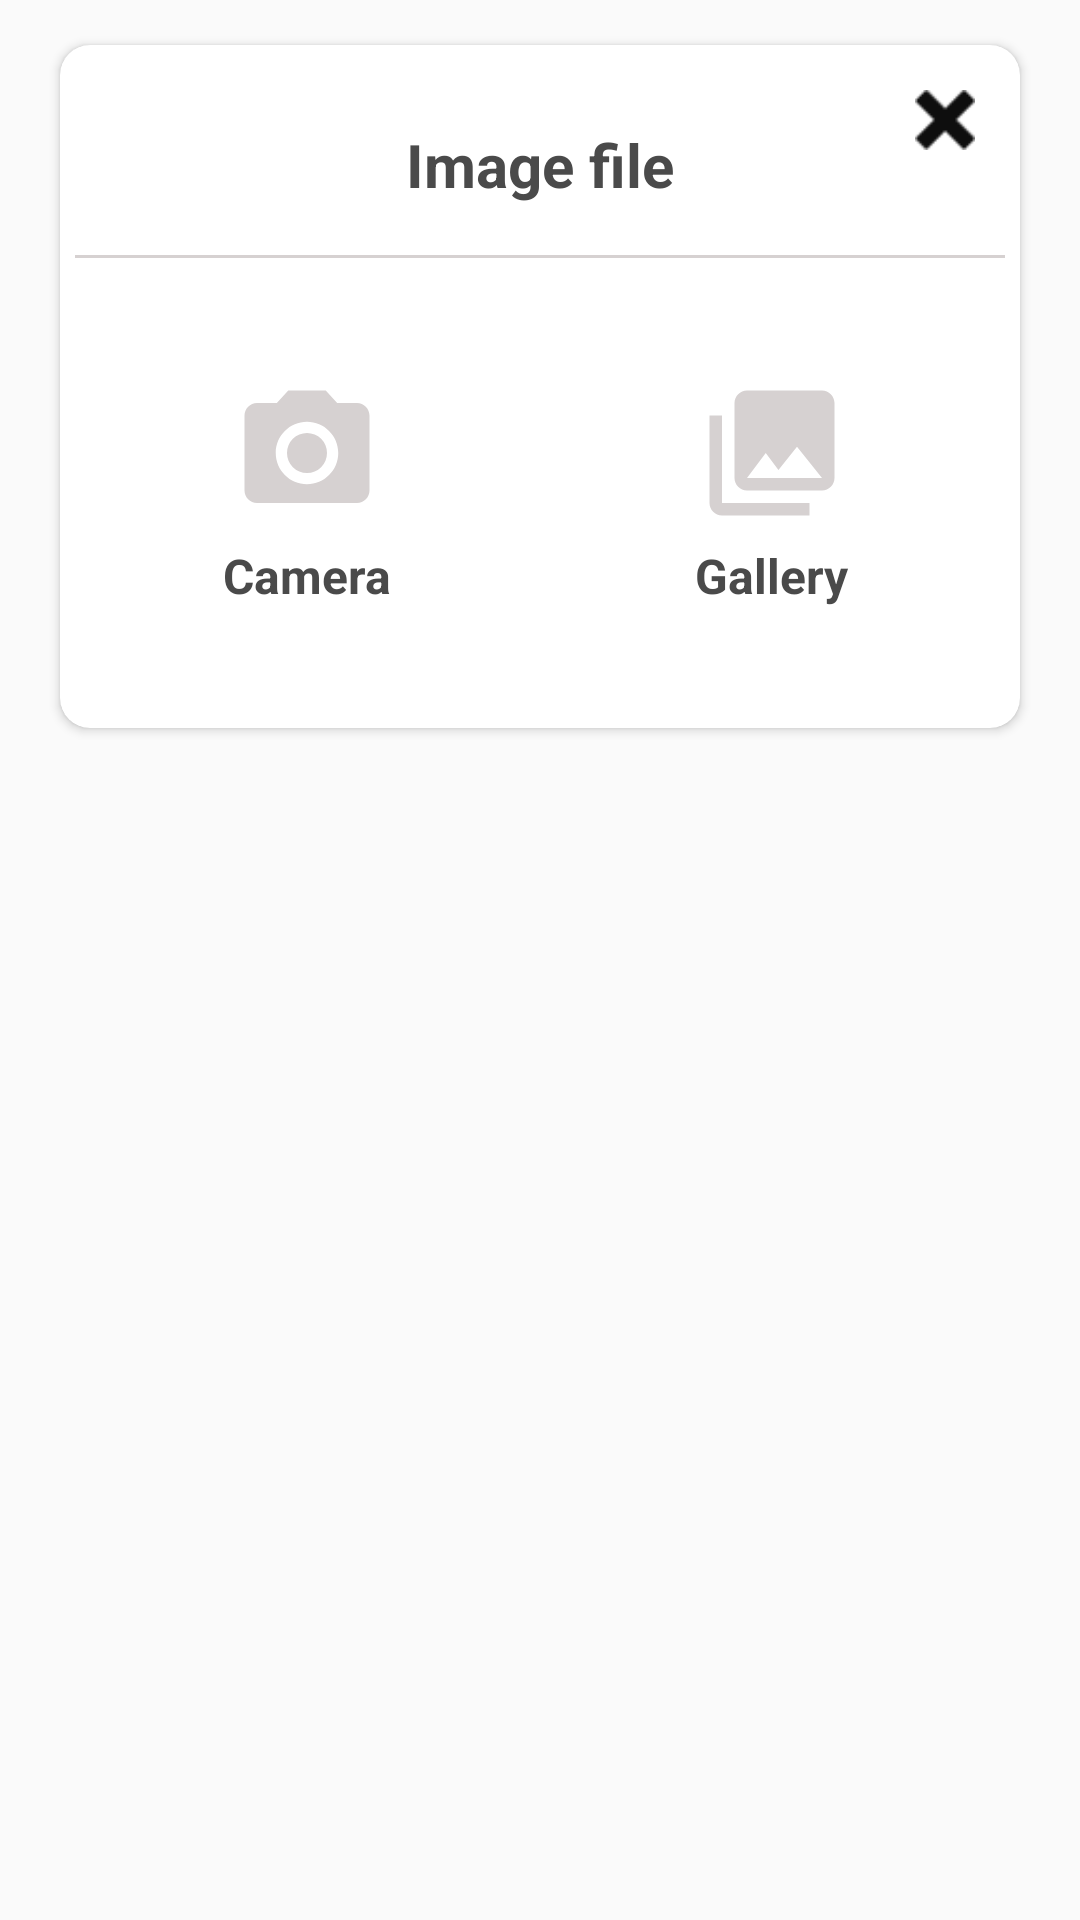

Icons on this 1080 x 1920 Android screen, each with its box as (x1, y1, x2, y2):
cross: (915, 90, 975, 150)
photo library: (710, 391, 834, 515)
